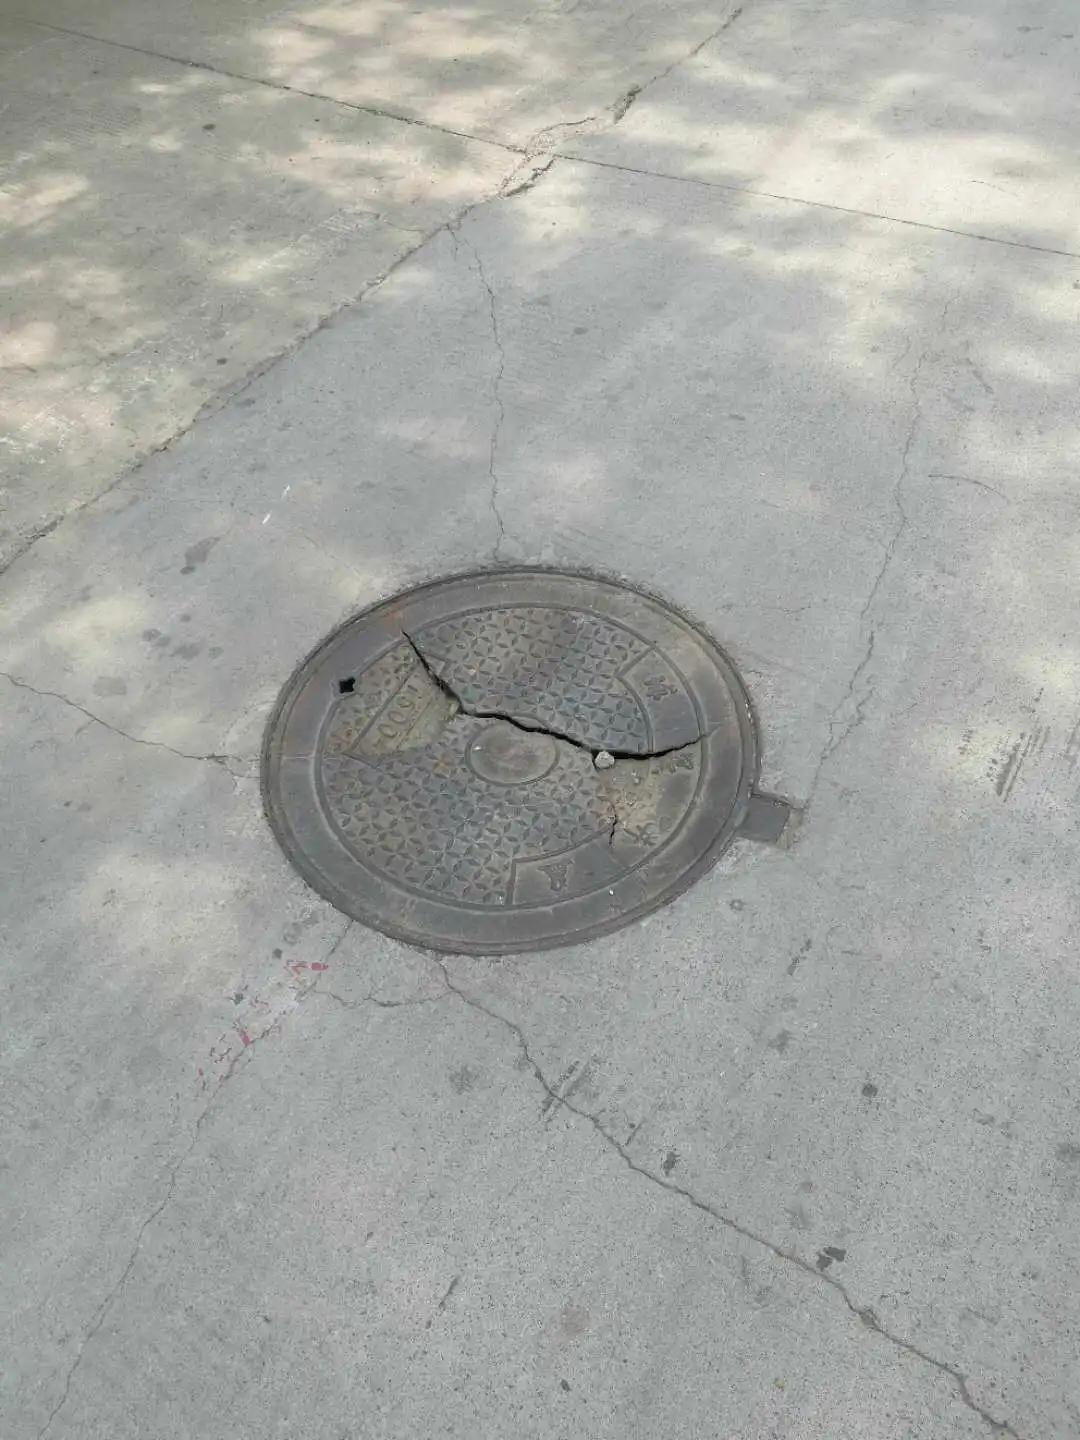wellcover: (284, 549, 828, 966)
